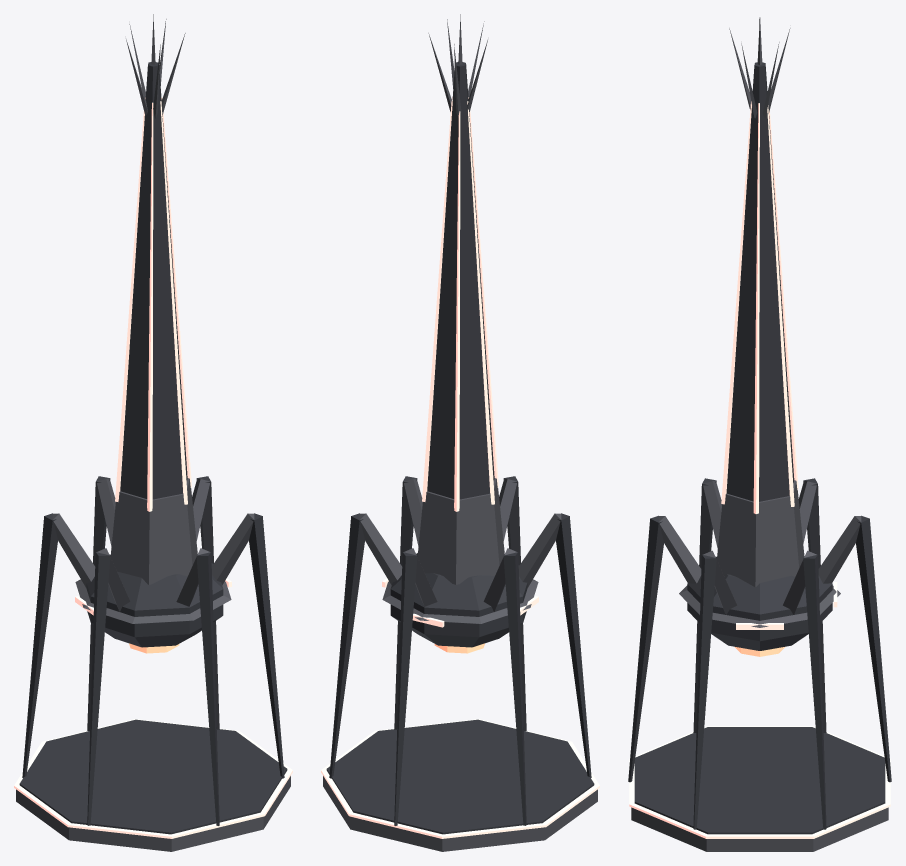
File: zone_high_4.glb
3 renders of one model, left to right at view 1: azimuth 30°, elevation 25°; view 2: azimuth 150°, elevation 25°; view 3: azimuth 270°, elevation 25°, orthographic.
Parts seen in each view (by area): view 1: zone_high_4; view 2: zone_high_4; view 3: zone_high_4.
Part boxes in pixels (x1=…): zone_high_4: x1=14, y1=14, x2=292, y2=851; zone_high_4: x1=321, y1=14, x2=599, y2=851; zone_high_4: x1=628, y1=17, x2=891, y2=851.
Bounding box in the file's own units: 27.35 × 90.53 × 27.6.
